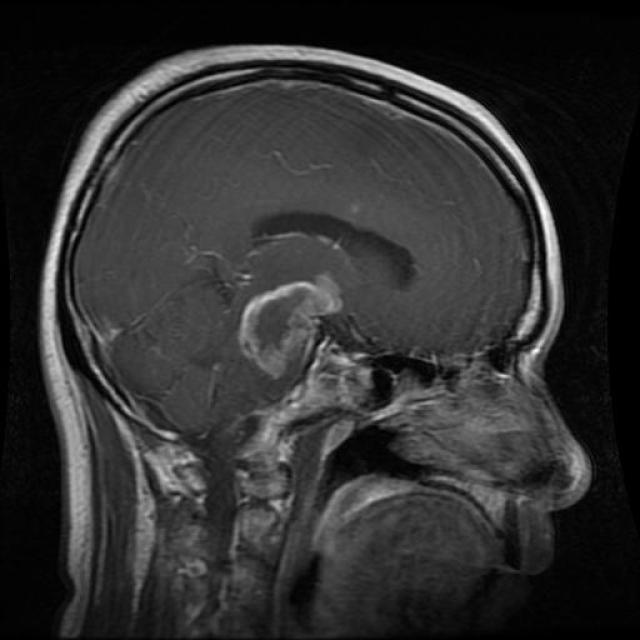glioma: (234, 276, 352, 384)
